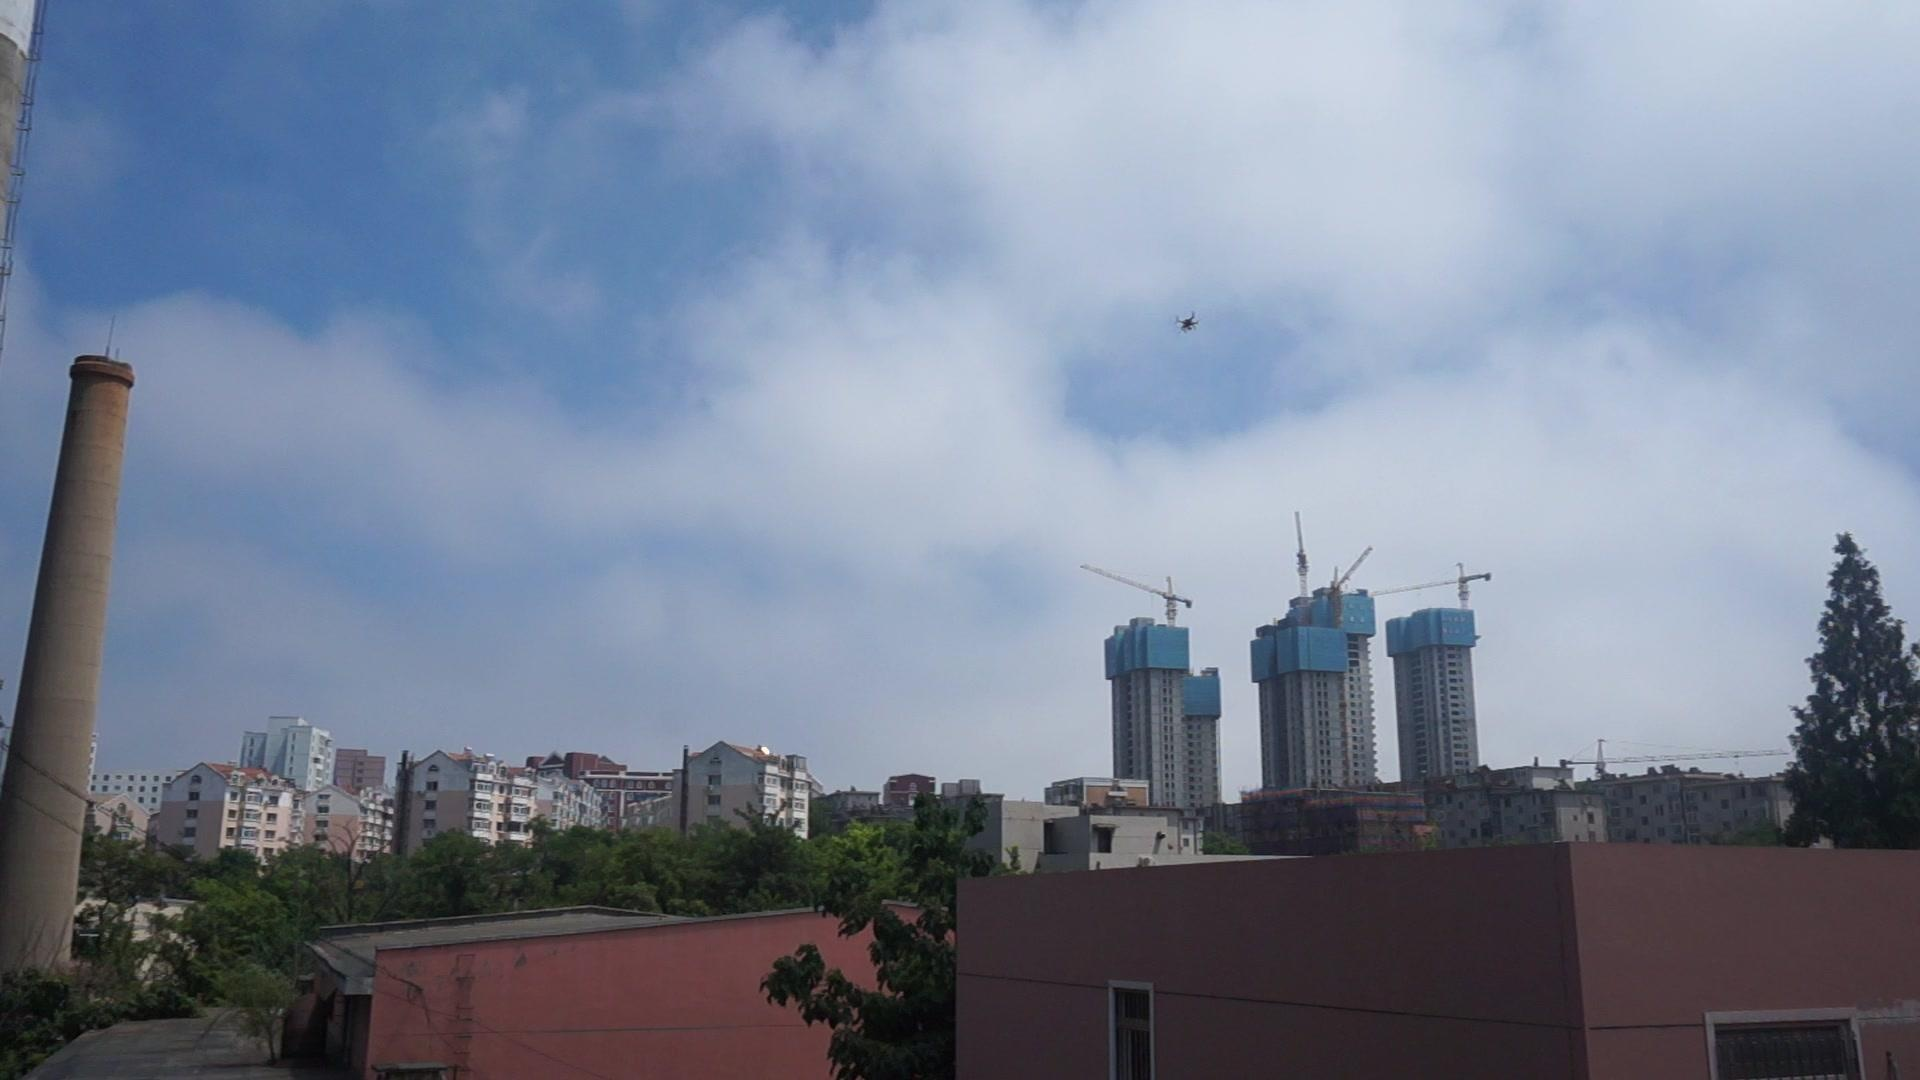UAV: (1174, 311, 1201, 336)
